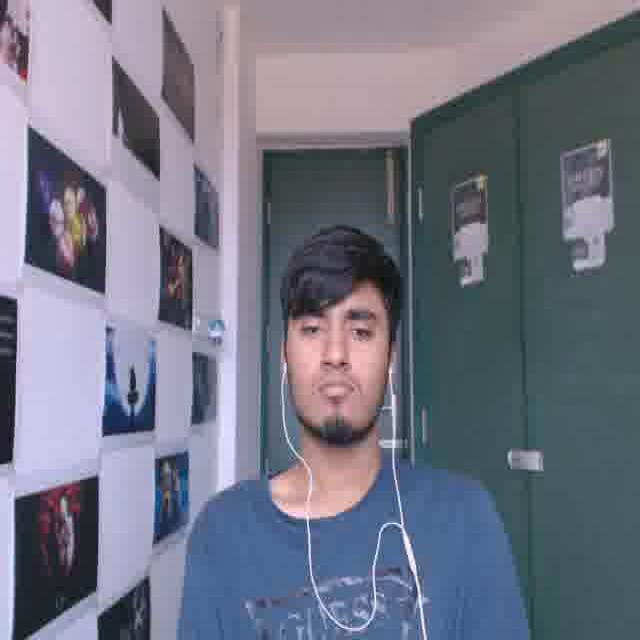Boredom: (285, 275, 383, 425)
